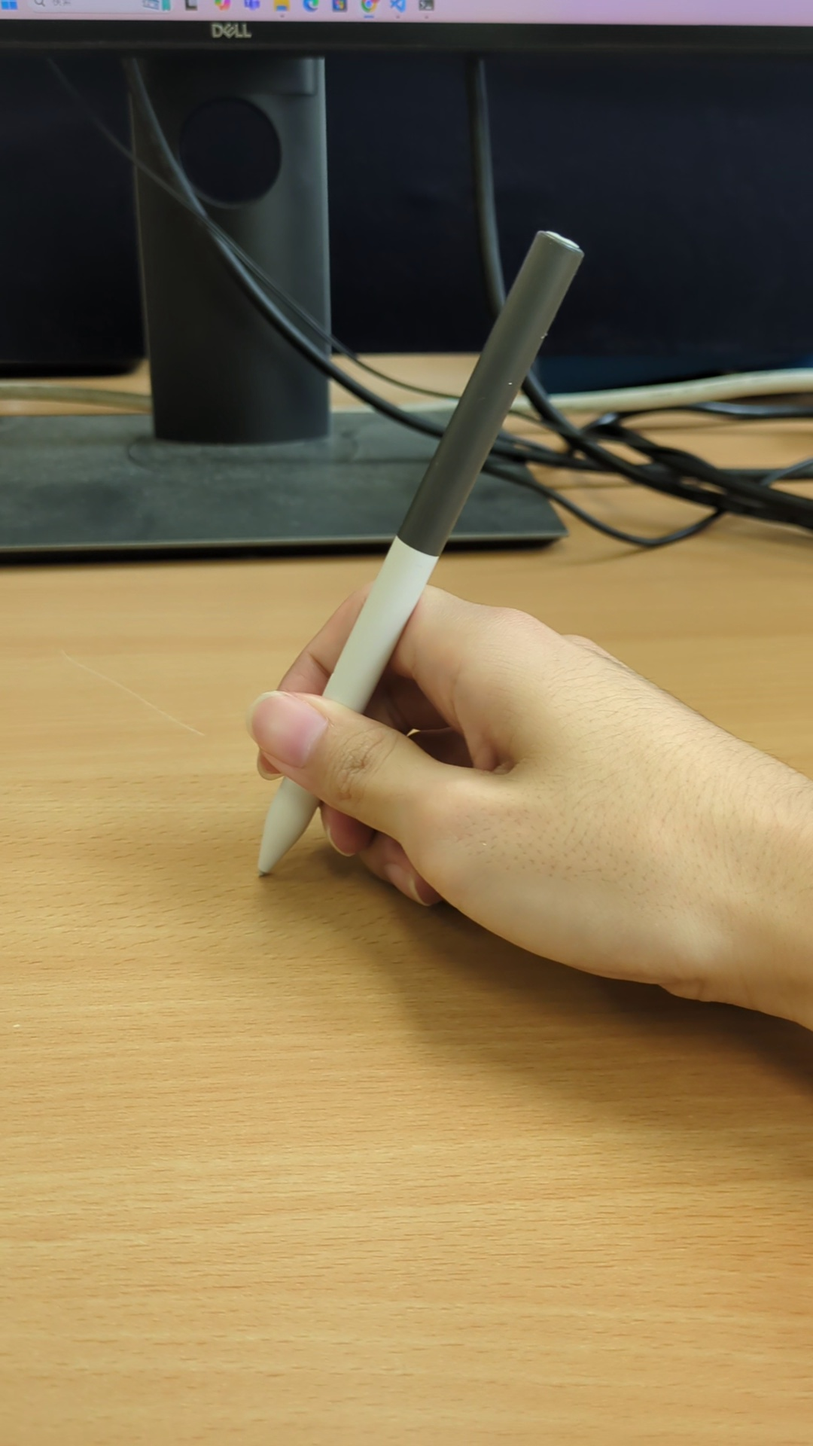pen: (251, 227, 585, 881)
tip: (253, 853, 276, 876)
